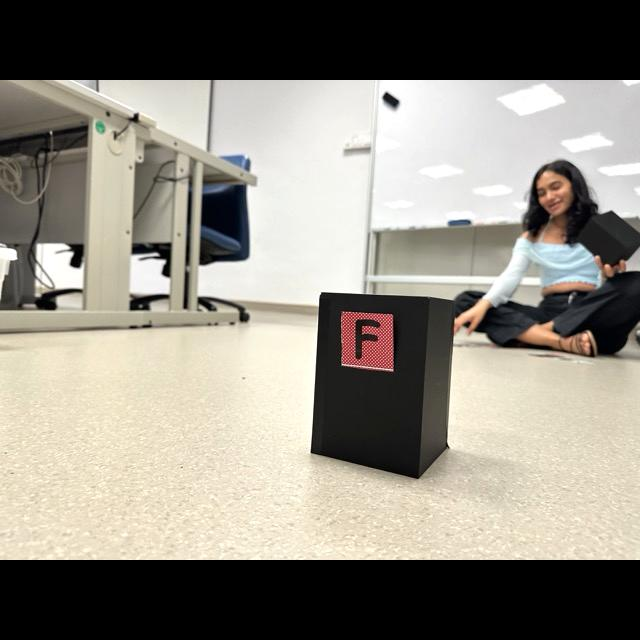F: (355, 319, 379, 358)
